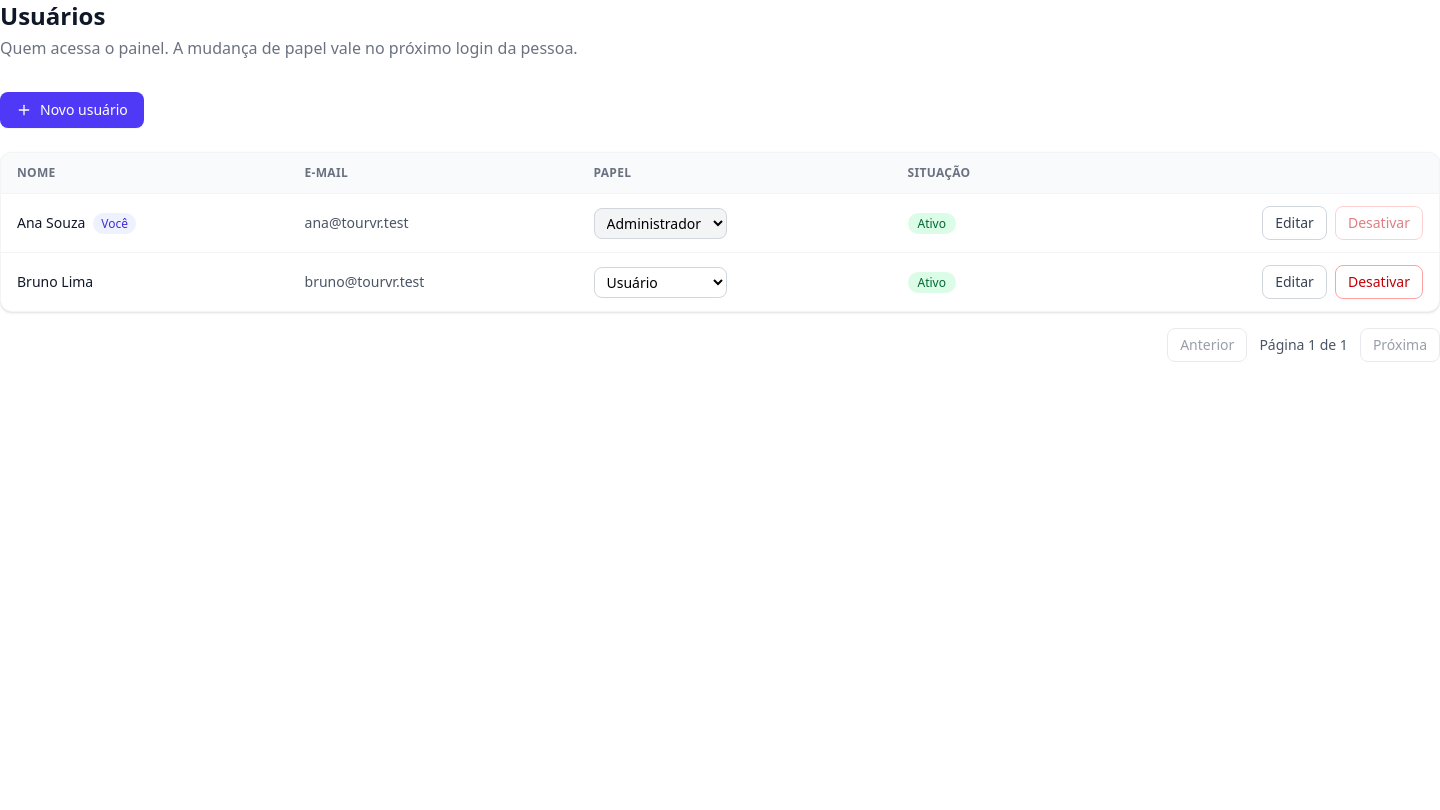
Scenario: UsersPage — editar usuario › cancelar fecha a janela sem salvar
expect the text "bruno@tourvr.test" is shown: met, box [288,252,578,311]
Click the button "Editar" in the row of "Bruno Lima": coordinates (1295, 282) [1262,265,1327,299]
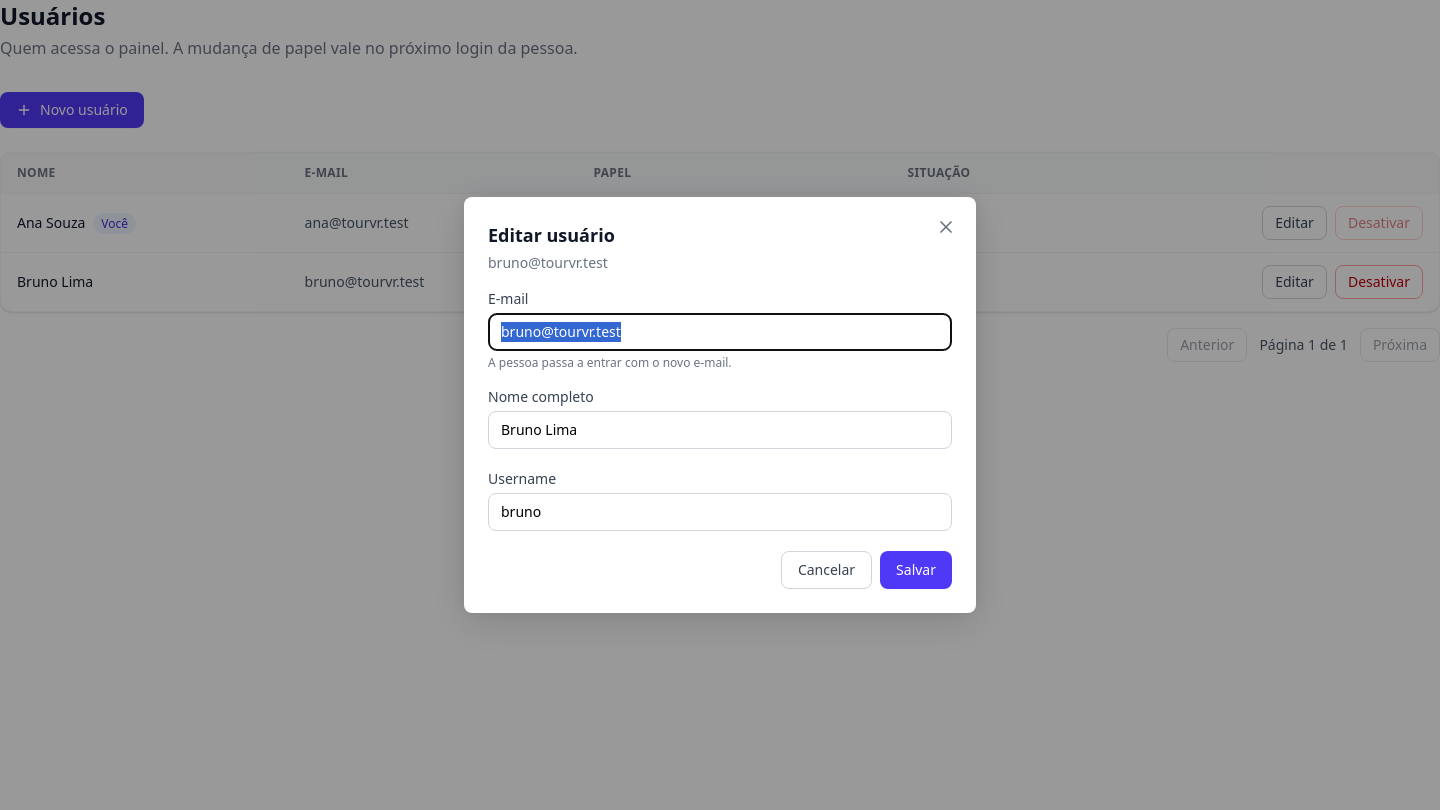
Click the button "Cancelar": coordinates (826, 570) [781,551,872,589]
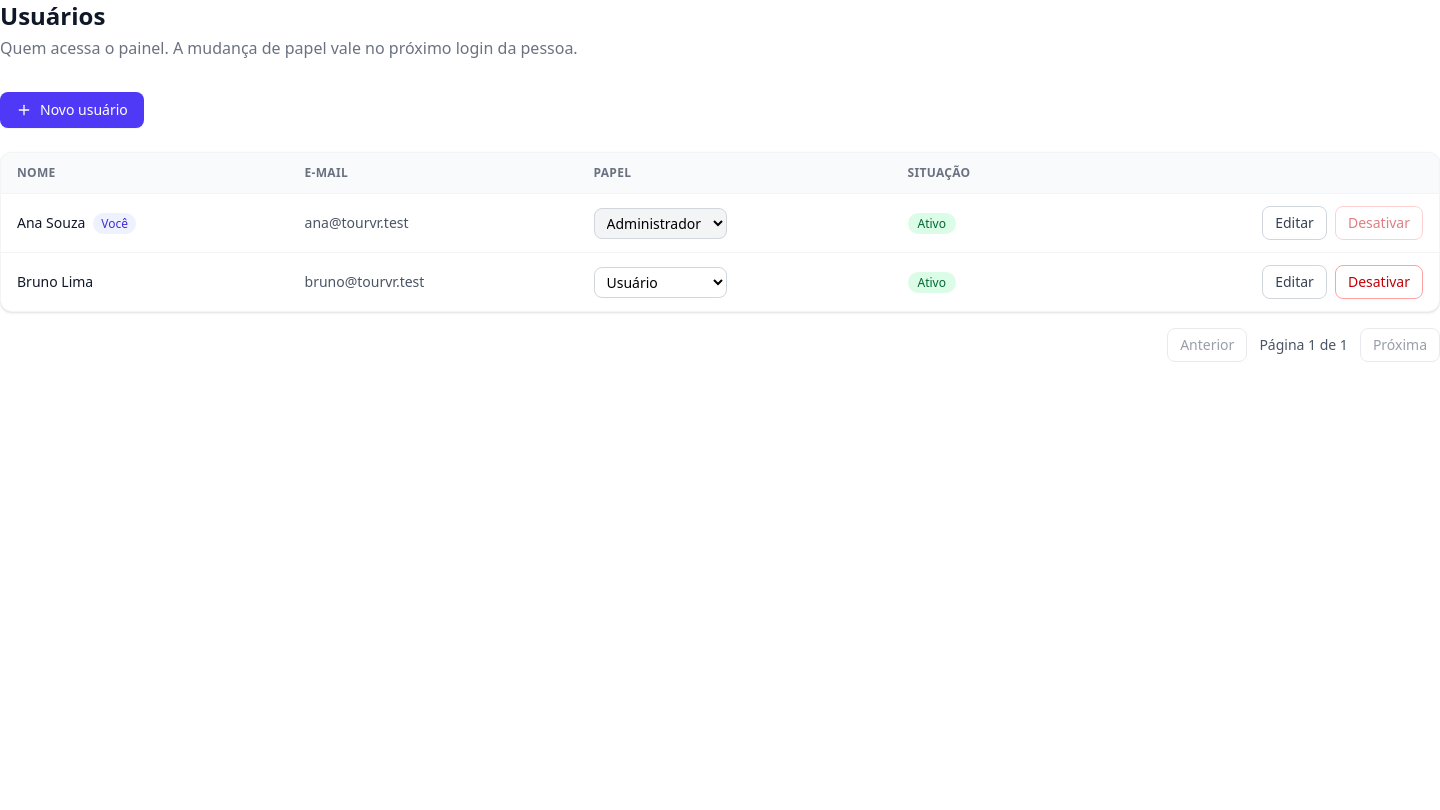
expect the dialog is gone: met
